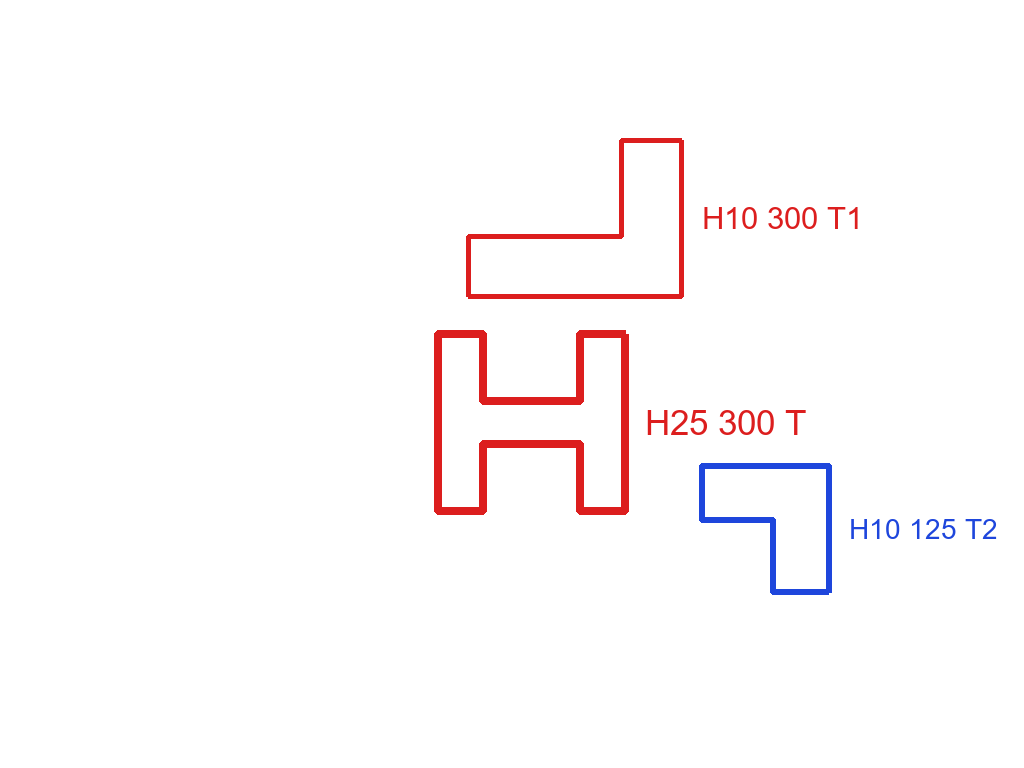shape: (431, 329, 631, 517), (464, 136, 686, 301), (697, 460, 834, 598)
text: (643, 408, 808, 437), (700, 205, 865, 231), (847, 517, 1000, 541)
